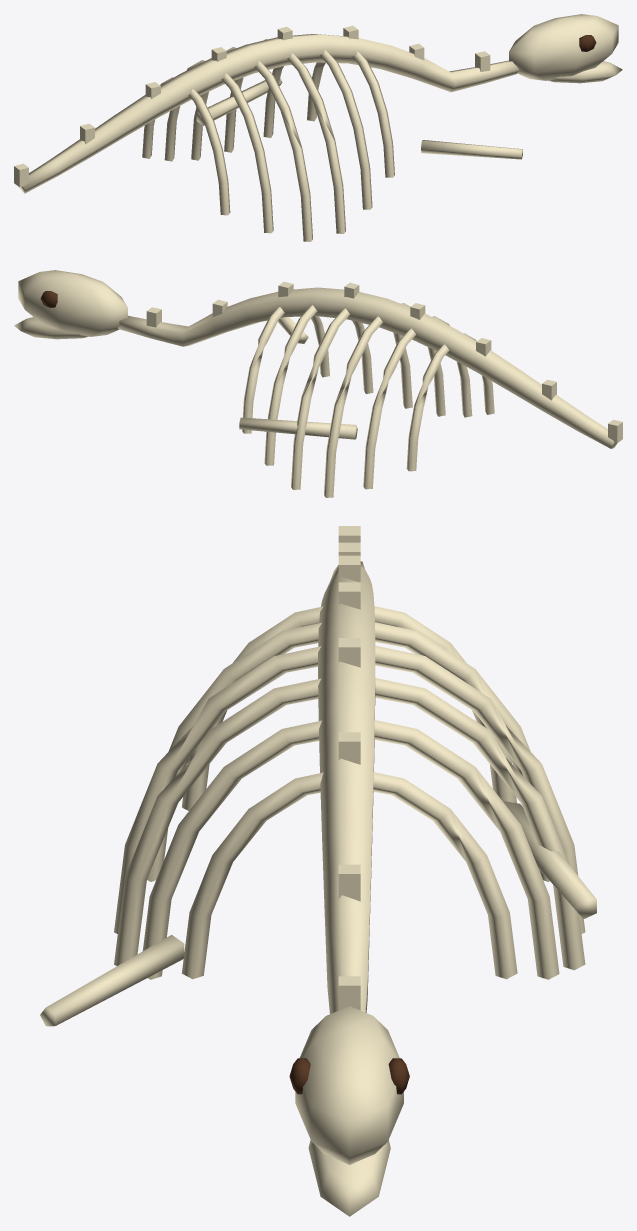
The model's file is dino.obj.
3 renders of one model, top to bottom at view 1: azimuth 30°, elevation 25°; view 2: azimuth 150°, elevation 25°; view 3: azimuth 270°, elevation 25°, orthographic. The views are drawn at different scales.
Visible parts, largest first — view 1: dino; view 2: dino; view 3: dino.
Boxes of the visible parts, <box> form: dino: <box>14,14,622,241</box>; dino: <box>14,270,622,497</box>; dino: <box>40,526,596,1216</box>.
Size of the model in its own units: 4.42 by 1.13 by 1.76.
